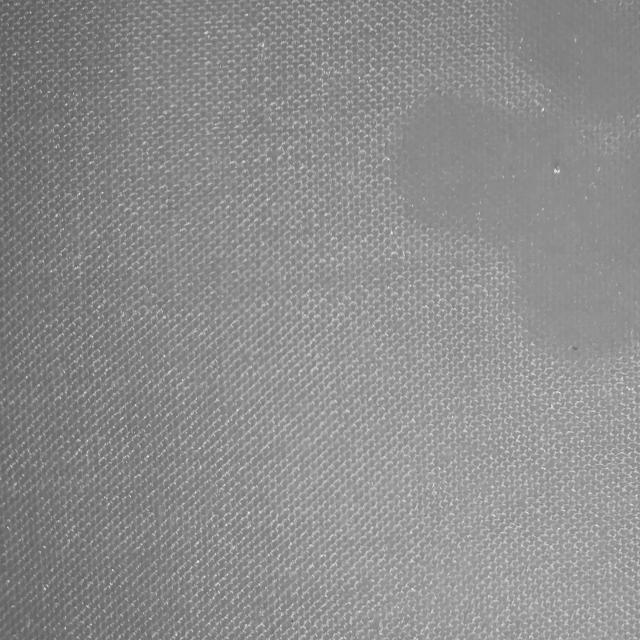Stain: (399, 1, 640, 356)
